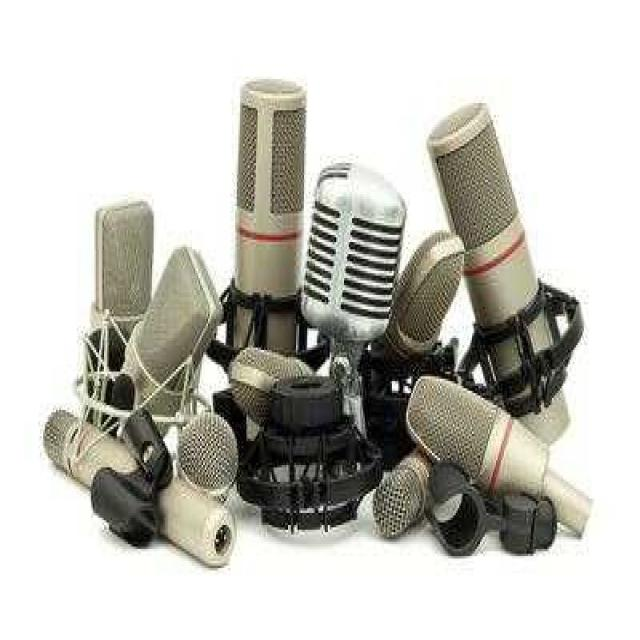microphone: (429, 104, 582, 439), (304, 165, 403, 429), (223, 74, 312, 336), (118, 246, 223, 434), (409, 370, 556, 480), (89, 198, 152, 430), (376, 230, 465, 367), (164, 410, 234, 526), (228, 347, 314, 427), (368, 447, 430, 545), (41, 410, 82, 480)
